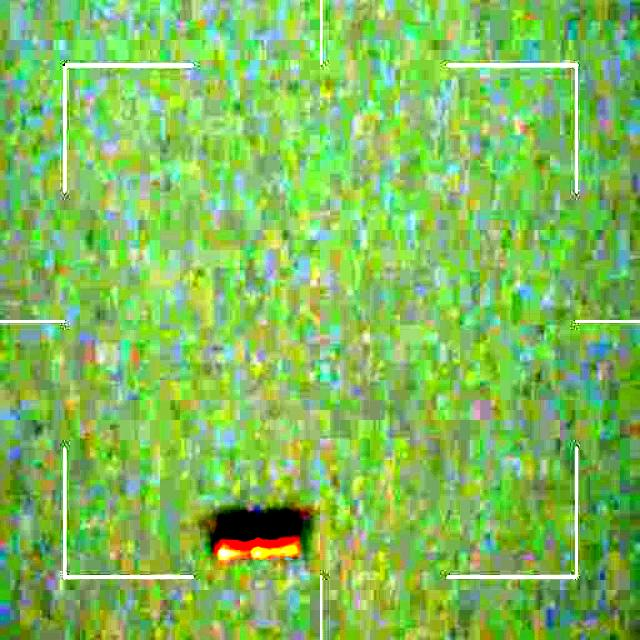bird: (211, 509, 308, 560)
